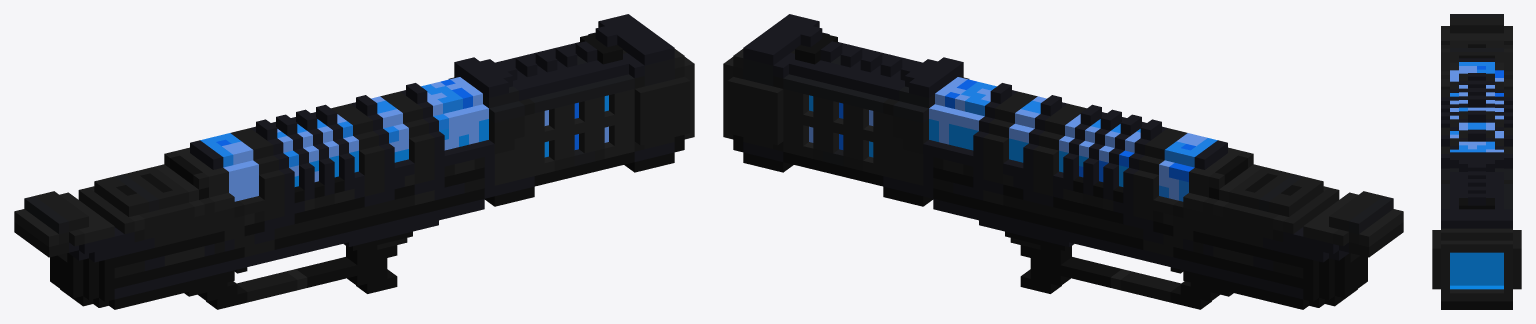
Rendered from plasma-5-plasmagun1.obj.
The picture shows the model from 3 angles, left to right: view 1: azimuth 30°, elevation 25°; view 2: azimuth 150°, elevation 25°; view 3: azimuth 270°, elevation 25°; orthographic projection. The views are drawn at different scales.
Parts seen in each view (by area): view 1: plasmagun1; view 2: plasmagun1; view 3: plasmagun1.
Boxes of the visible parts, <box> form: plasmagun1: <box>14,14,694,309</box>; plasmagun1: <box>723,14,1403,309</box>; plasmagun1: <box>1432,14,1521,309</box>.
Bounding box in the file's own units: 6.4 × 1.9 × 1.
1 material, 1 textured.
